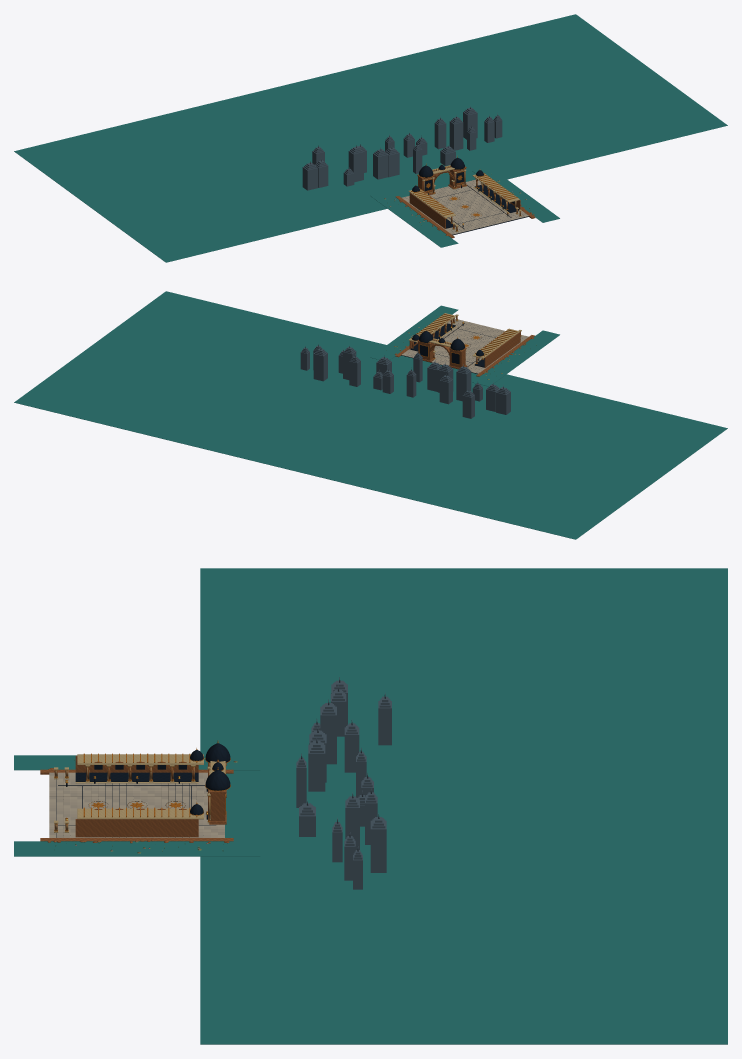
The model's file is lanka_courtyard.glb.
3 renders of one model, top to bottom at view 1: azimuth 30°, elevation 25°; view 2: azimuth 150°, elevation 25°; view 3: azimuth 270°, elevation 25°, orthographic. The views are drawn at different scales.
Parts seen in each view (by area): view 1: WATER_Coastal_water, SKYLINE_Distant_indigo_silhouettes, COL_BEVEL_Pale_limestone, DECOR_Aged_brass, FLOOR_BEVEL_Courtyard_stone_3, FLOOR_BEVEL_Courtyard_stone_1, FLOOR_BEVEL_Courtyard_stone_2, FLOOR_BEVEL_Courtyard_stone_0, COL_BEVEL_Warm_carved_sandstone, COL_Warm_carved_sandstone, COL_Indigo_glazed_stone; view 2: WATER_Coastal_water, SKYLINE_Distant_indigo_silhouettes, COL_BEVEL_Warm_carved_sandstone, COL_BEVEL_Pale_limestone, DECOR_Aged_brass, FLOOR_BEVEL_Courtyard_stone_0, FLOOR_BEVEL_Courtyard_stone_2, FLOOR_BEVEL_Courtyard_stone_1, FLOOR_BEVEL_Courtyard_stone_3, COL_Warm_carved_sandstone, COL_Indigo_glazed_stone; view 3: WATER_Coastal_water, SKYLINE_Distant_indigo_silhouettes, COL_BEVEL_Warm_carved_sandstone, COL_BEVEL_Pale_limestone, FLOOR_BEVEL_Courtyard_stone_1, FLOOR_BEVEL_Courtyard_stone_2, FLOOR_BEVEL_Courtyard_stone_0, FLOOR_BEVEL_Courtyard_stone_3, COL_Warm_carved_sandstone, COL_Indigo_glazed_stone, DECOR_Aged_brass, COL_BEVEL_Indigo_glazed_stone.
Boxes of the visible parts, box(x1,y1,x2,y2) form: WATER_Coastal_water: box(14, 14, 727, 262); SKYLINE_Distant_indigo_silhouettes: box(302, 106, 502, 190); COL_BEVEL_Pale_limestone: box(408, 165, 521, 232); DECOR_Aged_brass: box(411, 156, 520, 230); FLOOR_BEVEL_Courtyard_stone_3: box(403, 179, 528, 233); FLOOR_BEVEL_Courtyard_stone_1: box(408, 180, 524, 233); FLOOR_BEVEL_Courtyard_stone_2: box(406, 181, 522, 232); FLOOR_BEVEL_Courtyard_stone_0: box(402, 180, 526, 234); COL_BEVEL_Warm_carved_sandstone: box(409, 166, 520, 228); COL_Warm_carved_sandstone: box(395, 166, 535, 238); COL_Indigo_glazed_stone: box(412, 158, 529, 235); WATER_Coastal_water: box(14, 291, 727, 539); SKYLINE_Distant_indigo_silhouettes: box(300, 344, 510, 418); COL_BEVEL_Warm_carved_sandstone: box(409, 331, 520, 369); COL_BEVEL_Pale_limestone: box(408, 313, 521, 365); DECOR_Aged_brass: box(411, 314, 517, 364); FLOOR_BEVEL_Courtyard_stone_0: box(405, 318, 528, 373); FLOOR_BEVEL_Courtyard_stone_2: box(403, 320, 524, 371); FLOOR_BEVEL_Courtyard_stone_1: box(406, 319, 526, 370); FLOOR_BEVEL_Courtyard_stone_3: box(402, 321, 525, 372); COL_Warm_carved_sandstone: box(395, 316, 534, 376); COL_Indigo_glazed_stone: box(401, 323, 498, 373); WATER_Coastal_water: box(14, 568, 727, 1044); SKYLINE_Distant_indigo_silhouettes: box(296, 677, 391, 889); COL_BEVEL_Warm_carved_sandstone: box(75, 755, 226, 837); COL_BEVEL_Pale_limestone: box(54, 754, 225, 832); FLOOR_BEVEL_Courtyard_stone_1: box(49, 772, 224, 837); FLOOR_BEVEL_Courtyard_stone_2: box(49, 772, 224, 837); FLOOR_BEVEL_Courtyard_stone_0: box(49, 772, 224, 837); FLOOR_BEVEL_Courtyard_stone_3: box(49, 772, 224, 837); COL_Warm_carved_sandstone: box(40, 761, 233, 841); COL_Indigo_glazed_stone: box(56, 743, 230, 837); DECOR_Aged_brass: box(54, 740, 230, 830); COL_BEVEL_Indigo_glazed_stone: box(75, 772, 198, 781).
Size of the model in its own units: 320 by 19.82 by 203.
Materials: 13 (4 with a texture image).
